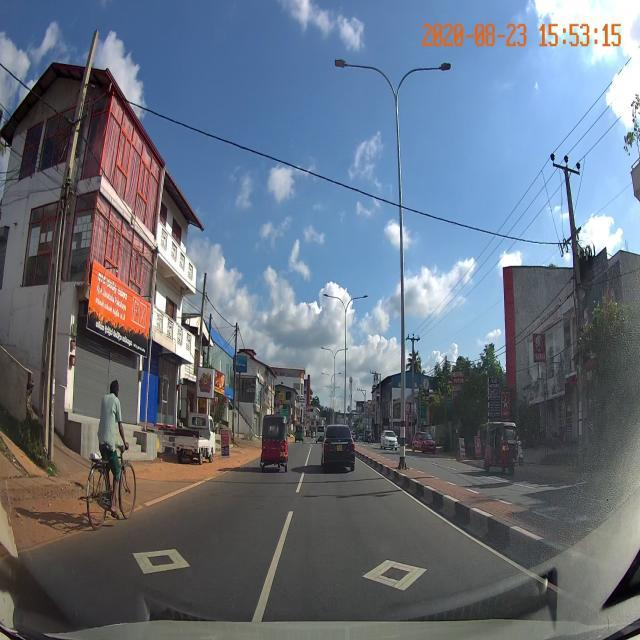diamond: (243, 525, 551, 612)
